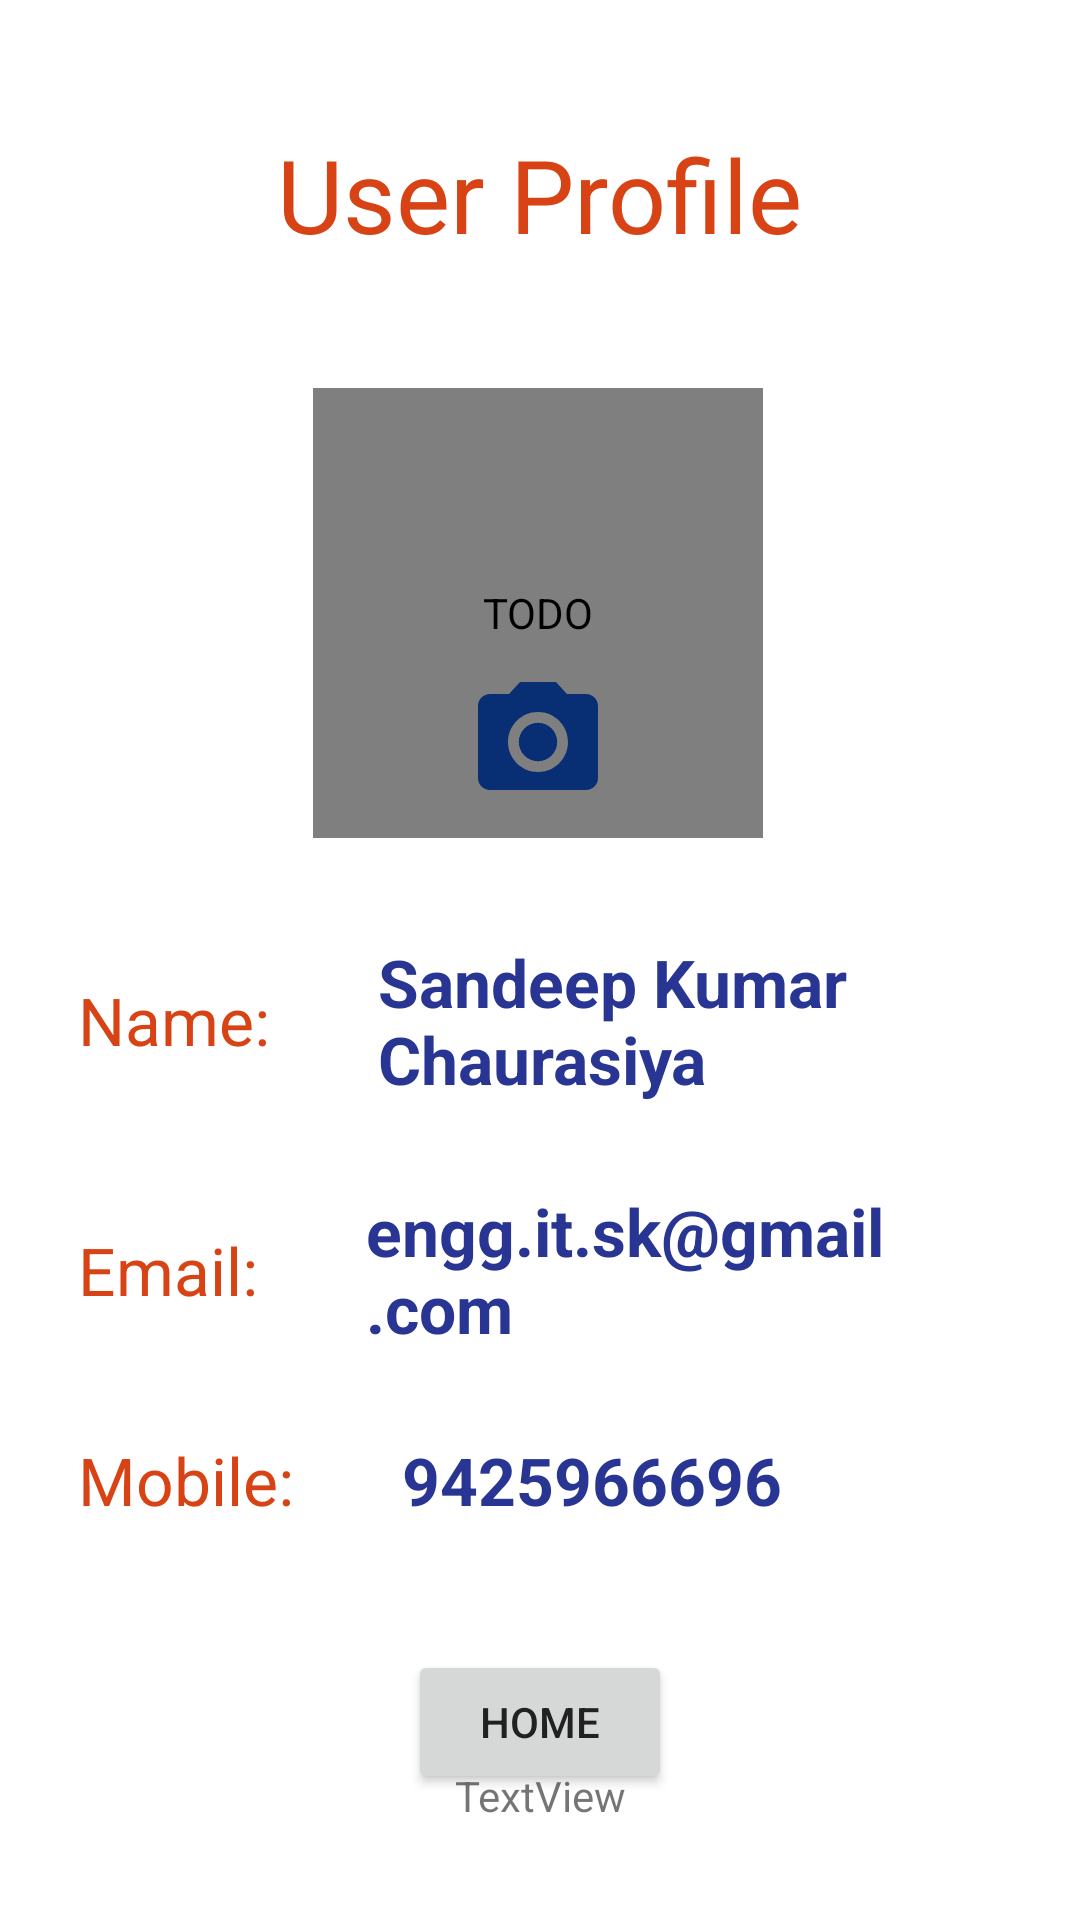

Icon bounding boxes for this 1080w x 1920h phone screenshot, format detection(x1, y1, x2, y2):
camera: detection(478, 682, 598, 790)
